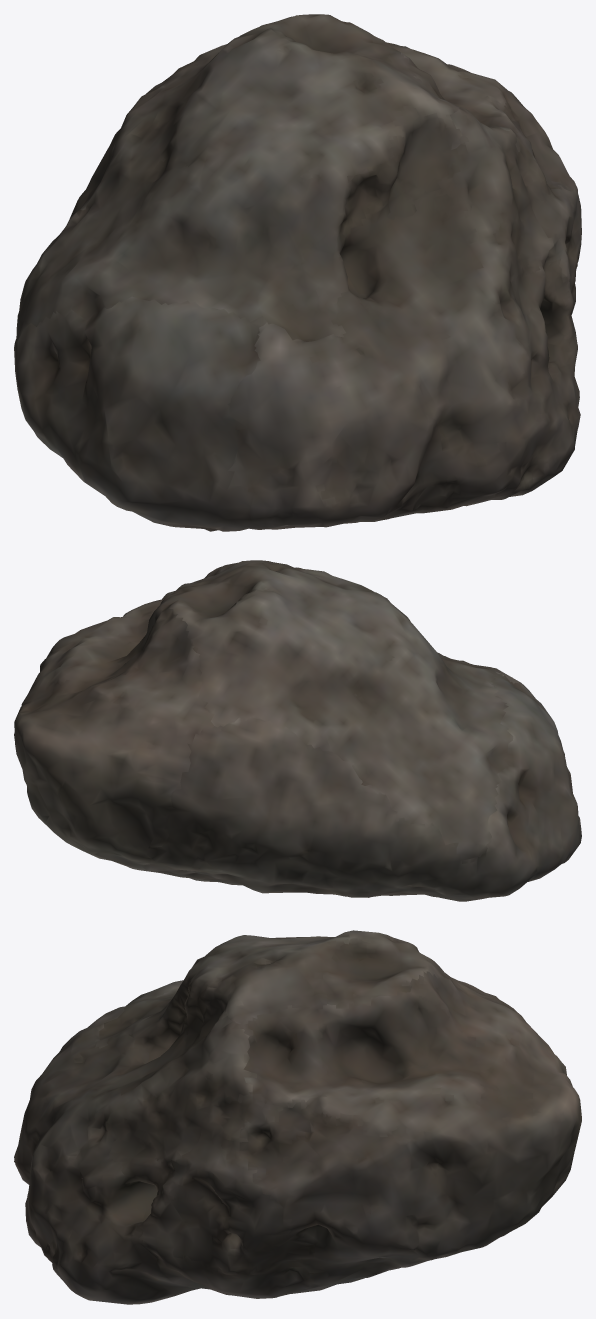
File: asteroid_common_4_lod2.glb
The picture shows the model from 3 angles, top to bottom: view 1: azimuth 30°, elevation 25°; view 2: azimuth 150°, elevation 25°; view 3: azimuth 270°, elevation 25°; orthographic projection. The views are drawn at different scales.
Parts seen in each view (by area): view 1: model; view 2: model; view 3: model.
Boxes of the visible parts, <box> form: model: <box>14,14,581,531</box>; model: <box>14,560,581,901</box>; model: <box>14,930,581,1304</box>.
Bounding box in the file's own units: 1.84 × 1.23 × 1.89.
Materials: 1 (1 with a texture image).
